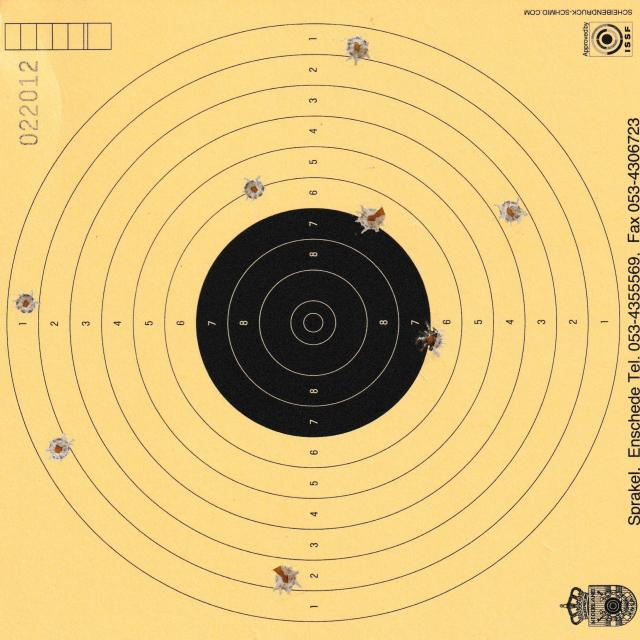2: (44, 432, 76, 463), (271, 564, 301, 596), (343, 35, 371, 66), (14, 290, 42, 313)
3: (493, 197, 528, 226)
6: (241, 176, 267, 202)
7: (414, 321, 446, 357), (355, 204, 386, 236)
Target: (5, 20, 623, 624)
black_contour: (195, 207, 432, 437)
